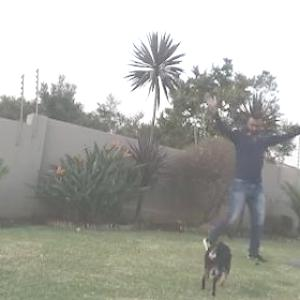takeoff: (198, 88, 299, 260)
